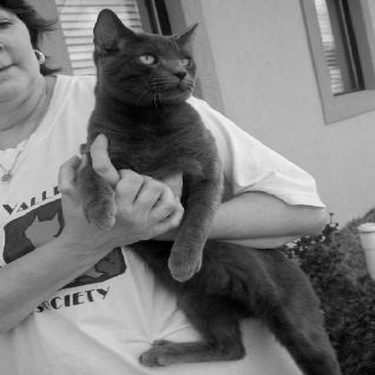cat: (74, 5, 339, 368)
